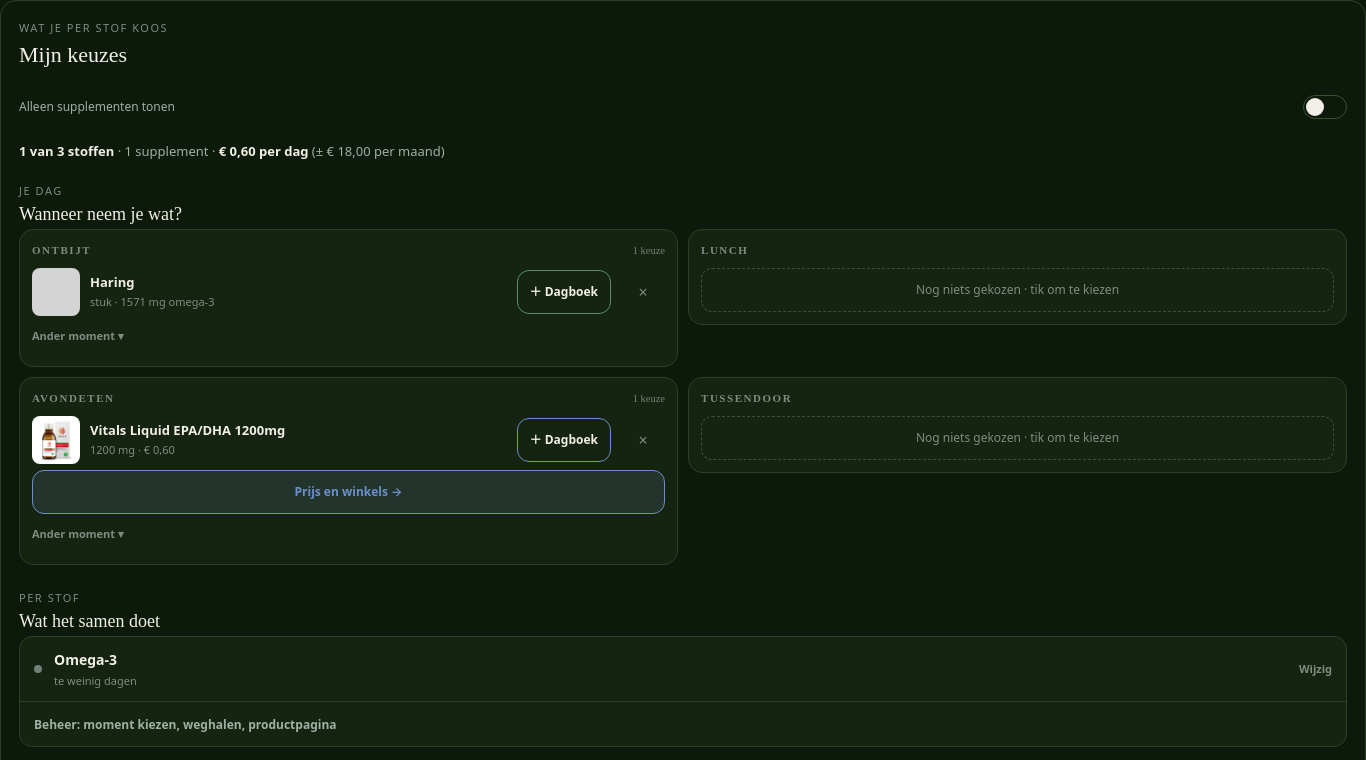
Test: MijnKeuzes › Alleen supplementen tonen verbergt het eten in Je dag en per stof, en zet het weer terug
Expected: the text "Haring" is shown, [90, 273, 134, 291]
Click the switch named "Alleen supplementen tonen" at (1325, 107), box [1303, 85, 1347, 129]
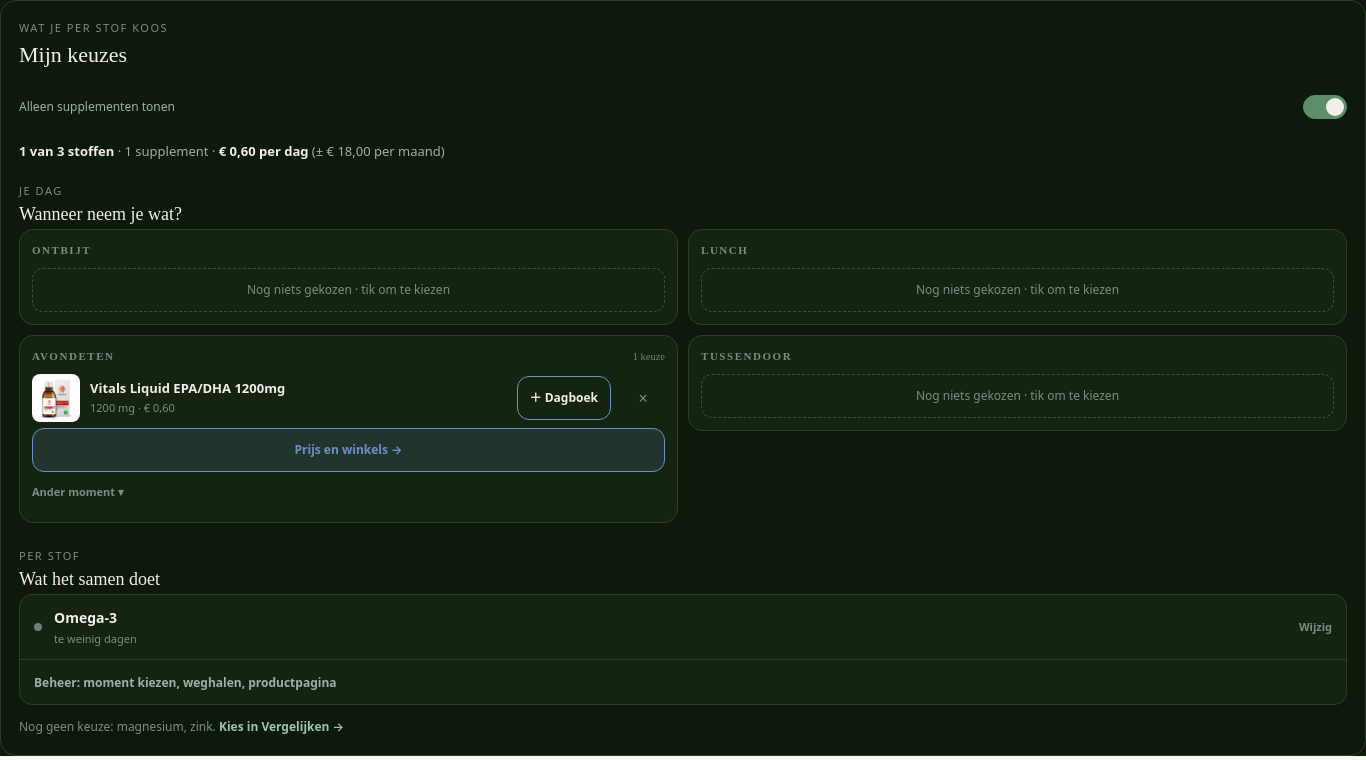
Expected: the text "Vitals Liquid EPA/DHA 1200mg" is shown, [90, 379, 285, 397]
Expected: the text "Haring" is gone
Click the switch named "Alleen supplementen tonen" at (1325, 107), box [1303, 85, 1347, 129]
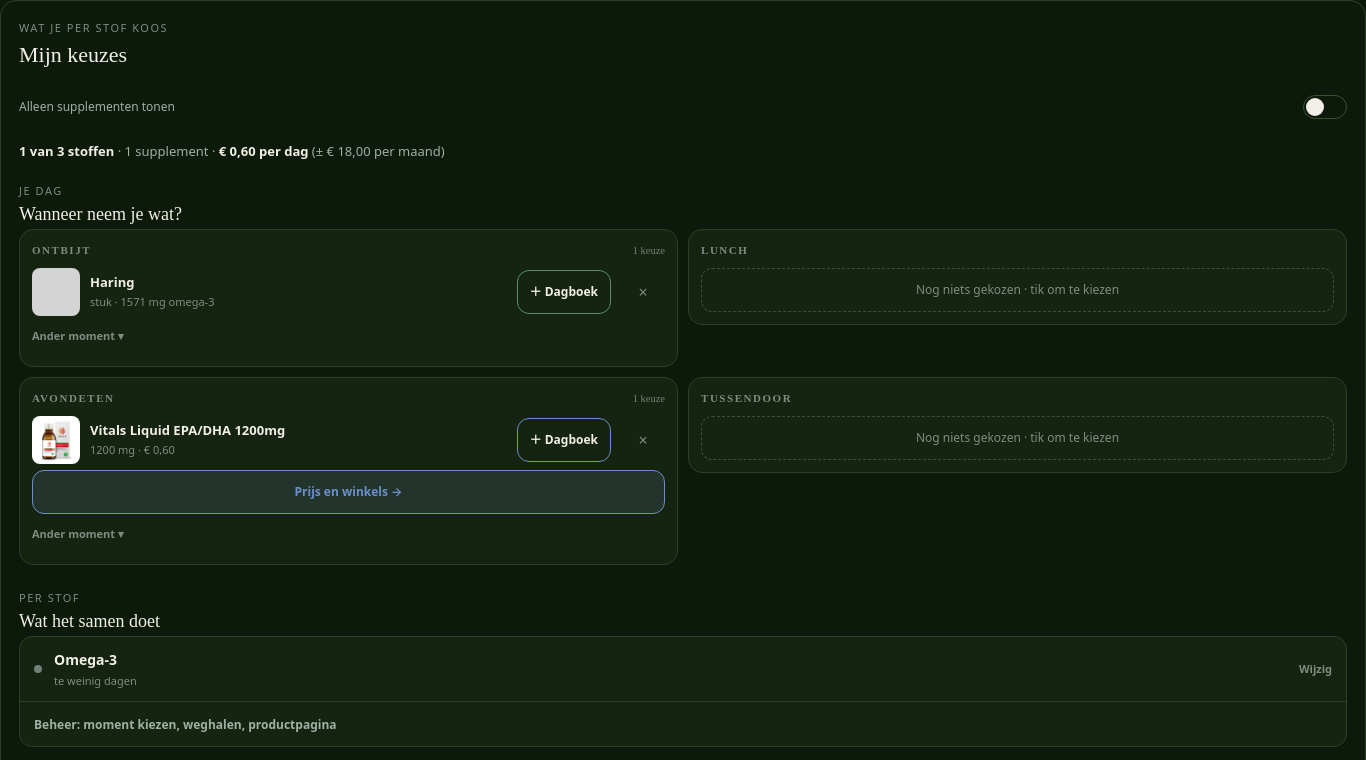
Expected: the text "Haring" is shown, [90, 273, 134, 291]
